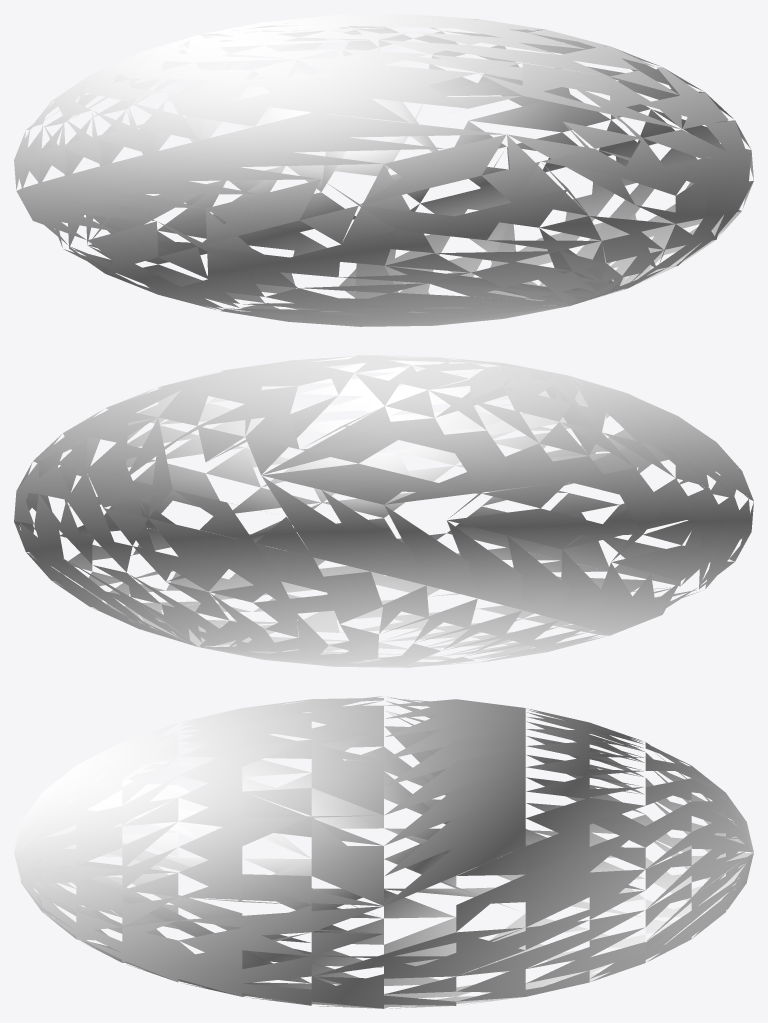
File: common_white_sphere.glb
3 renders of one model, top to bottom at view 1: azimuth 30°, elevation 25°; view 2: azimuth 150°, elevation 25°; view 3: azimuth 270°, elevation 25°, orthographic.
Parts seen in each view (by area): view 1: common_white_sphere_0; view 2: common_white_sphere_0; view 3: common_white_sphere_0.
Boxes of the visible parts, <box> form: common_white_sphere_0: <box>14,14,753,326</box>; common_white_sphere_0: <box>14,355,753,667</box>; common_white_sphere_0: <box>14,696,753,1008</box>.
Size of the model in its own units: 102 by 2 by 102.
1 material, 1 textured.
